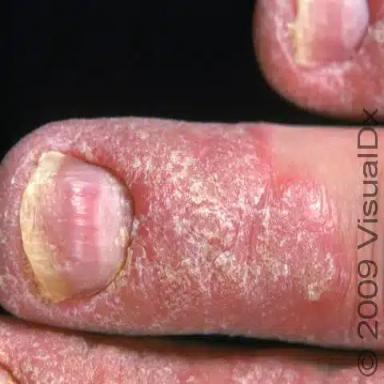Porokeratosis: (0, 115, 357, 342), (253, 3, 384, 121), (0, 318, 193, 383), (233, 362, 326, 383)
